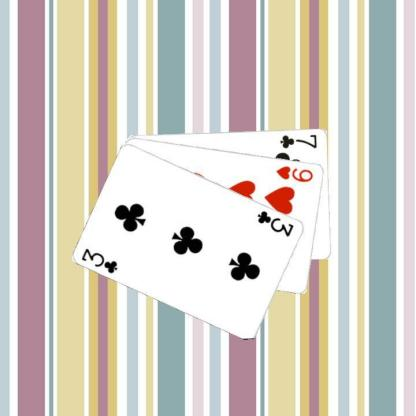3C: (255, 208, 295, 238), (79, 246, 119, 275)
7C: (278, 131, 318, 149)
9H: (274, 163, 315, 183)
